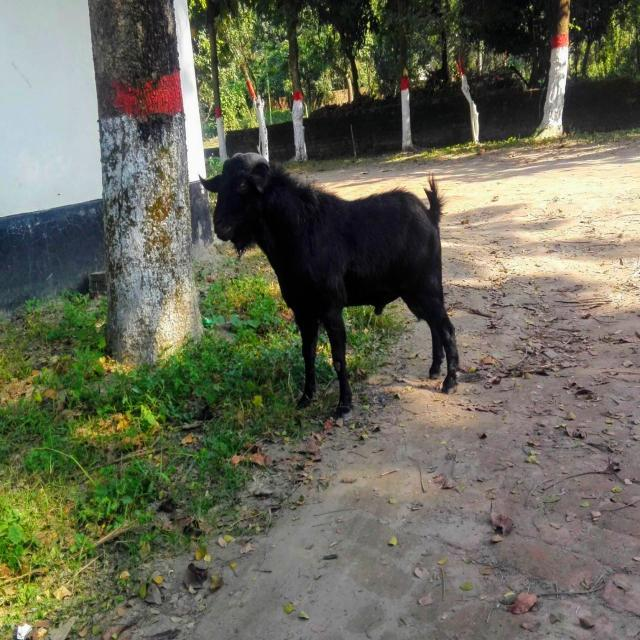Goat: (199, 150, 460, 417)
